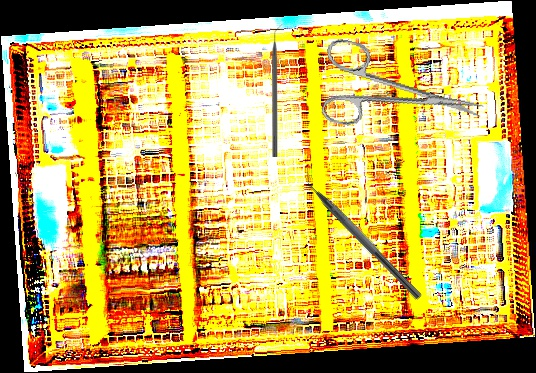Chopper: (293, 163, 431, 301), (272, 24, 285, 157)
Iris Scissors: (311, 36, 492, 155)
